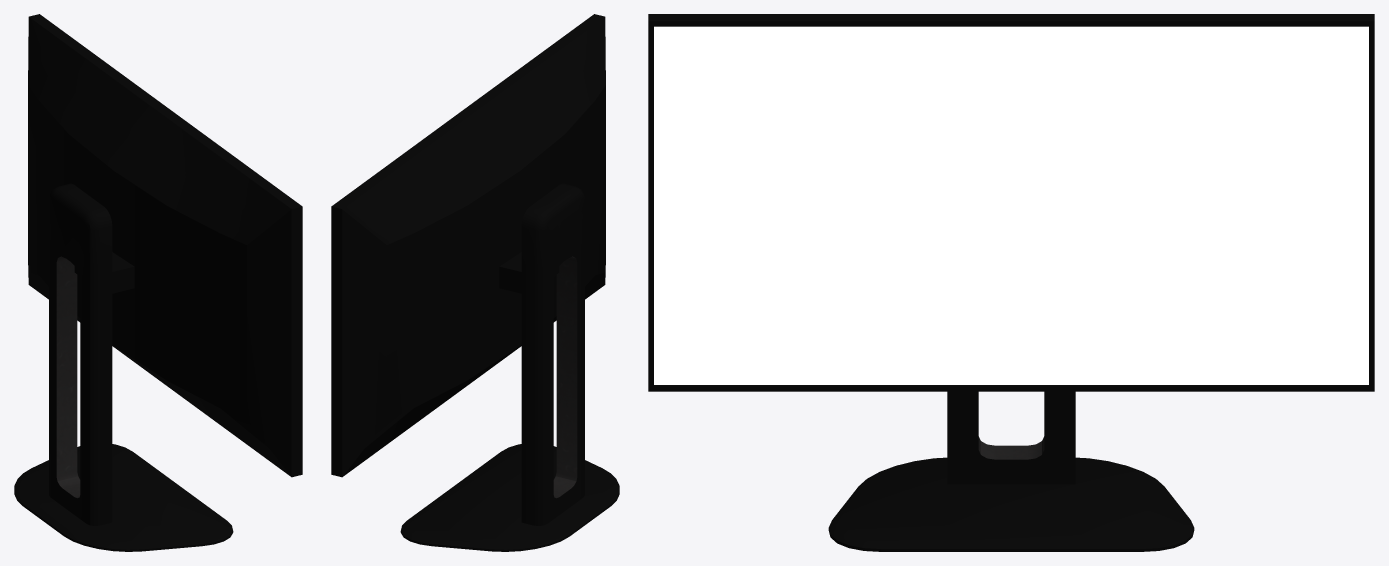
File: Office_-_Monitor.001.gltf
The picture shows the model from 3 angles, left to right: view 1: azimuth 30°, elevation 25°; view 2: azimuth 150°, elevation 25°; view 3: azimuth 270°, elevation 25°; orthographic projection. The views are drawn at different scales.
Parts seen in each view (by area): view 1: Office - Monitor_mesh; view 2: Office - Monitor_mesh; view 3: Office - Monitor_mesh.
Boxes of the visible parts, <box> form: Office - Monitor_mesh: <box>14,14,302,551</box>; Office - Monitor_mesh: <box>331,14,619,551</box>; Office - Monitor_mesh: <box>648,14,1374,551</box>.
Size of what is drawn, in the model's own units: 0.294 by 0.7833 by 0.9825.
Materials: 2 (1 with a texture image).
